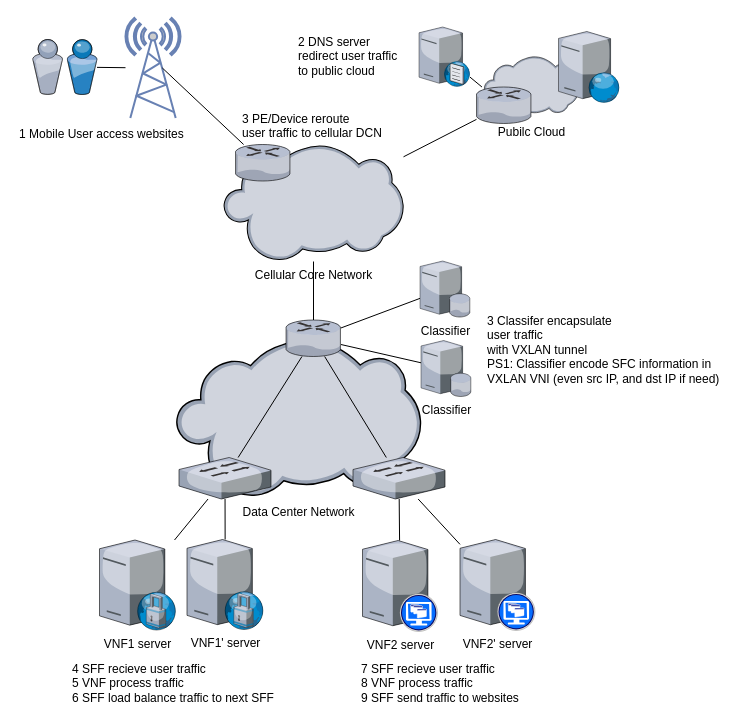
This 752x723 diagram has some shape labels left out. The centre of each missing label's shape, as x and y in pixels:
DCN Gateway: the point at 313,338
DNS server: the point at 444,55
Mobile User: the point at 64,66
PE: the point at 262,162
Web Server: the point at 588,66
